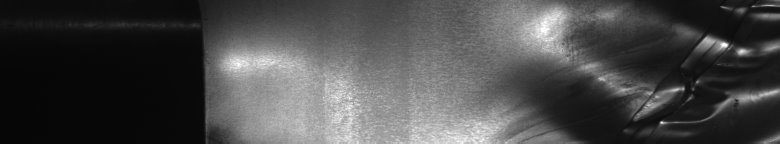ke: (552, 4, 776, 136)
